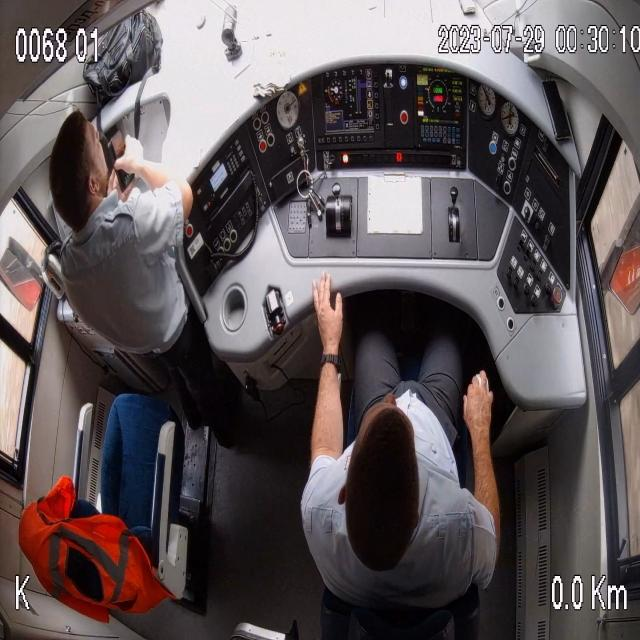smartphone: (102, 120, 136, 202)
